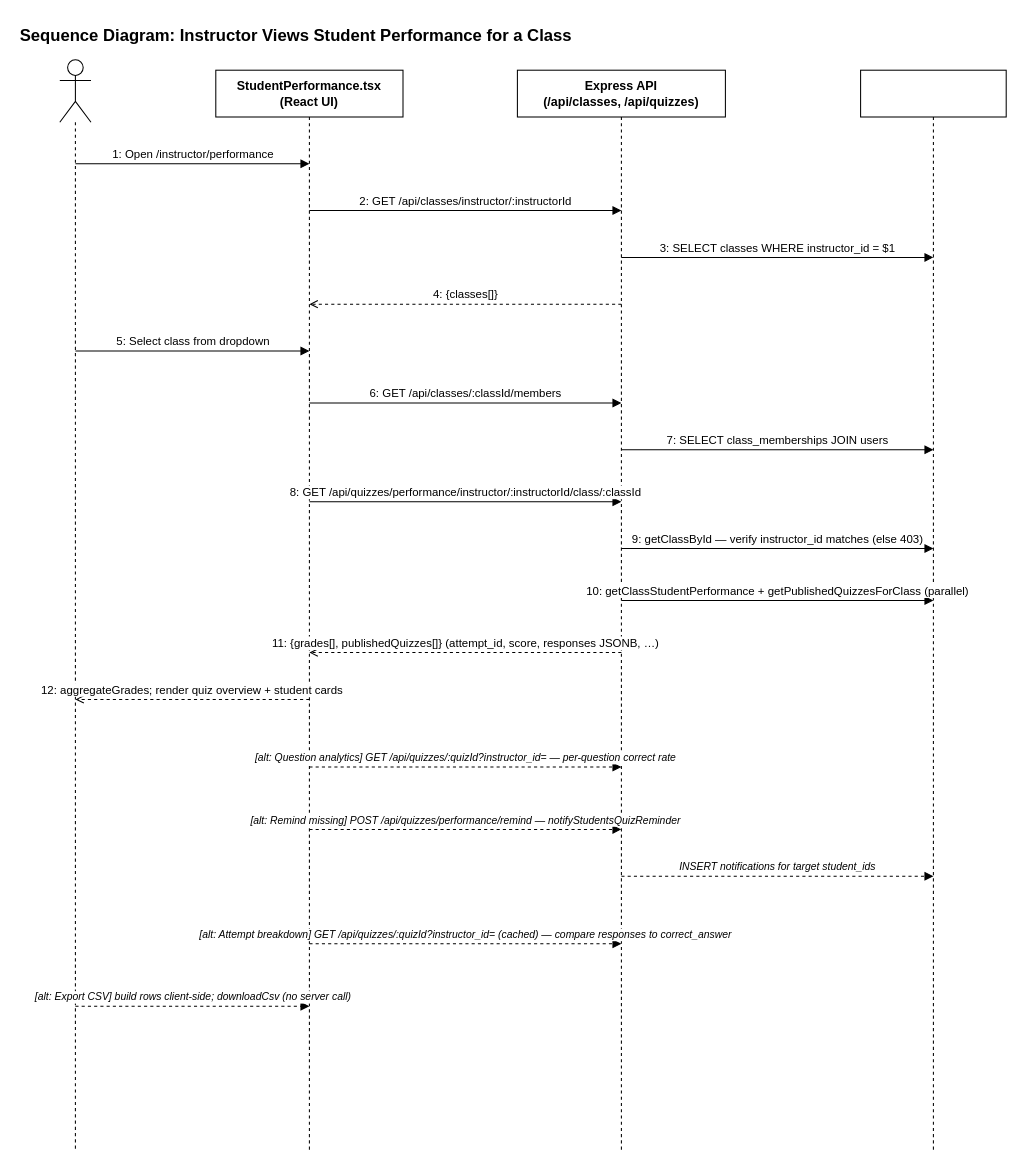
This 1024x1171 diagram has some shape labels left out. The centre of each missing label's shape, as x and y in pixels:
"Instructor" goes at point 75,90.
"PostgreSQL" goes at point 933,93.
